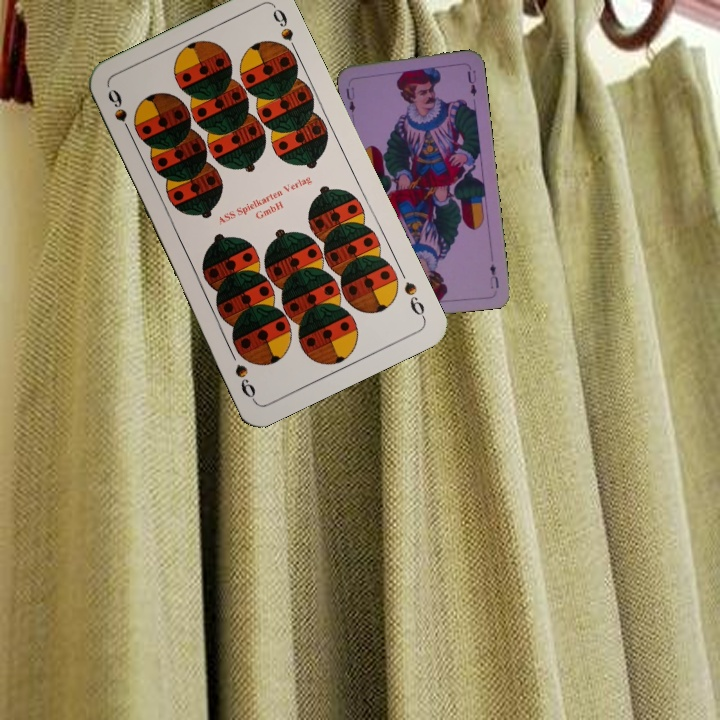EU: (342, 83, 358, 115), (486, 259, 501, 291)
S9: (103, 85, 136, 141), (400, 277, 428, 322)
